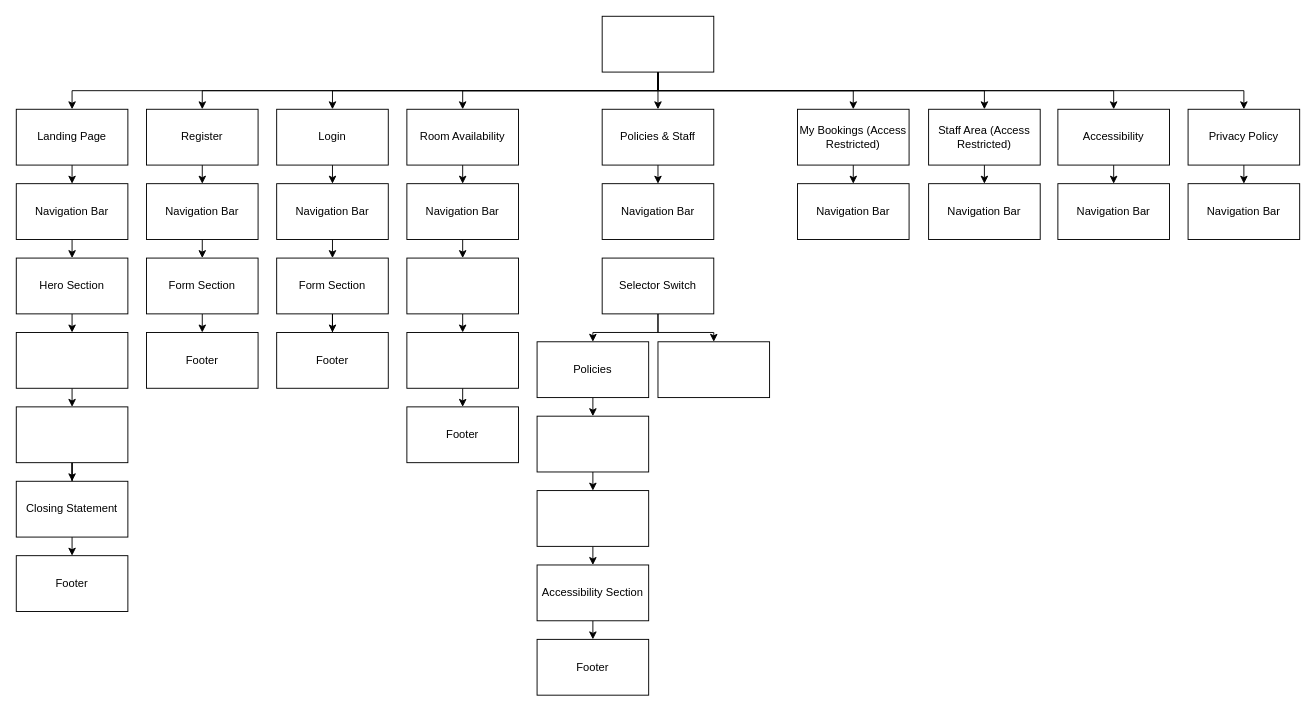
The diagram is 1316 pixels wide and 711 high, and some of its shapes have lost their labels. The centre of each missing label's shape, as x and y in pixels:
Catering Policies: point (592, 518)
CityPoint Room Hire: point (657, 43)
Filters: point (462, 360)
General Policies: point (592, 443)
Mock Products / Featured Rooms: point (71, 434)
Rooms Grid: point (462, 285)
Staff: point (713, 369)
Why Us: point (71, 360)
